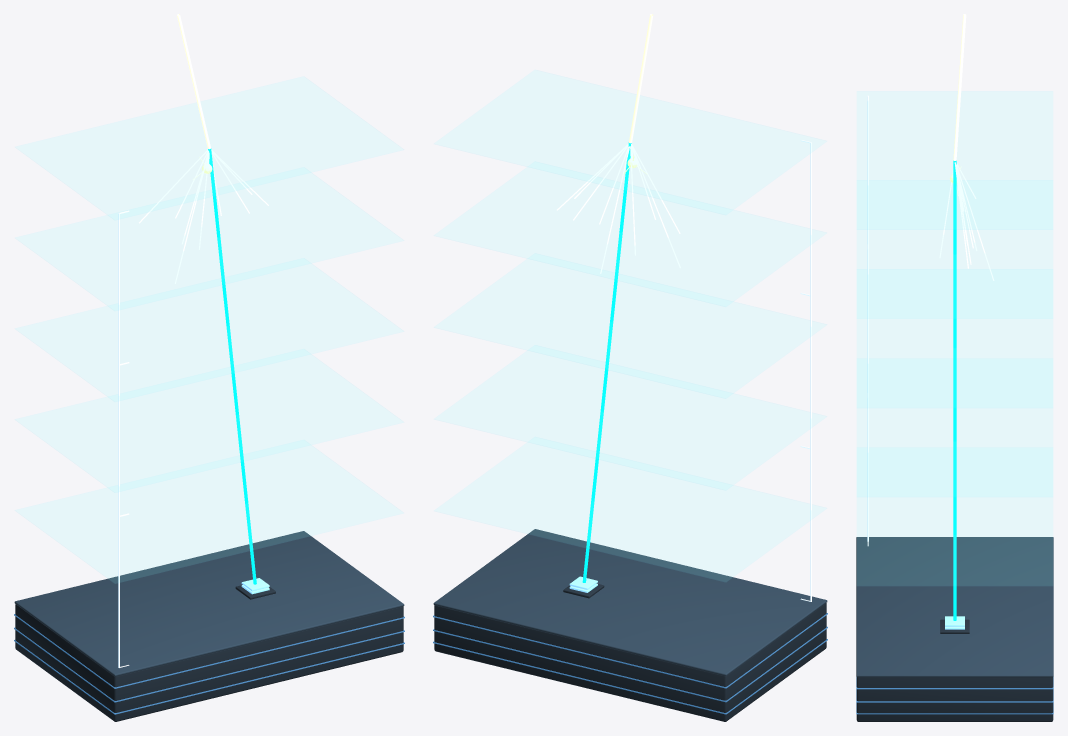
Rendered from relativity.glb.
The picture shows the model from 3 angles, left to right: view 1: azimuth 30°, elevation 25°; view 2: azimuth 150°, elevation 25°; view 3: azimuth 270°, elevation 25°; orthographic projection. The views are drawn at different scales.
Visible parts, largest first — view 1: Surface, Earth, MuonRel, Ruler, Stratum0, Stratum1, Stratum2; view 2: Surface, Earth, MuonRel, Ruler, Stratum0, Stratum1, Stratum2; view 3: Surface, Earth, MuonRel, Ruler, PrimaryRay, Stratum0, Stratum1, Stratum2.
Part boxes in pixels (<box>): Surface: <box>14,531,404,676</box>; Earth: <box>15,604,403,721</box>; MuonRel: <box>208,148,256,584</box>; Ruler: <box>118,213,119,667</box>; Stratum0: <box>14,614,404,688</box>; Stratum1: <box>14,627,404,702</box>; Stratum2: <box>14,640,404,714</box>; Surface: <box>433,529,827,676</box>; Earth: <box>434,603,826,721</box>; MuonRel: <box>582,142,631,582</box>; Ruler: <box>810,142,811,601</box>; Stratum0: <box>433,613,827,688</box>; Stratum1: <box>433,626,827,702</box>; Stratum2: <box>433,639,827,714</box>; Surface: <box>856,537,1053,677</box>; Earth: <box>856,677,1053,721</box>; MuonRel: <box>953,160,956,620</box>; Ruler: <box>867,96,868,541</box>; PrimaryRay: <box>953,14,966,160</box>; Stratum0: <box>856,677,1053,689</box>; Stratum1: <box>856,689,1053,702</box>; Stratum2: <box>856,703,1053,714</box>.
Size of what is drawn, in the model's own units: 10.03 by 21.11 by 6.03.
